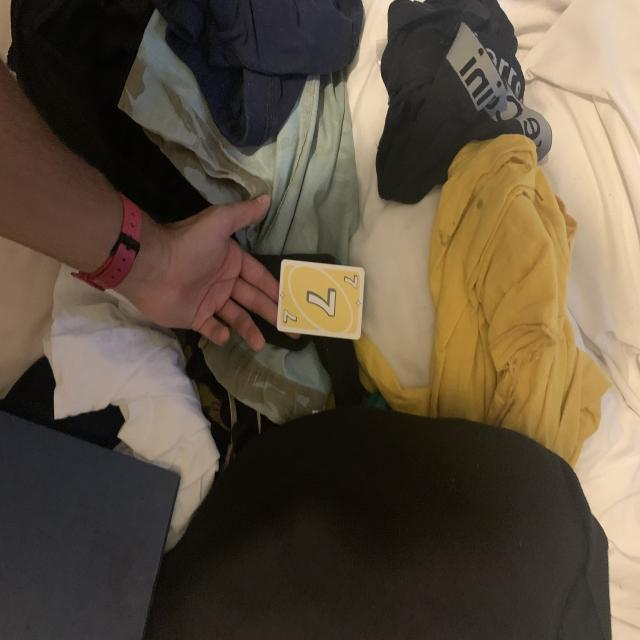lyellow-7: (279, 298, 300, 332)
